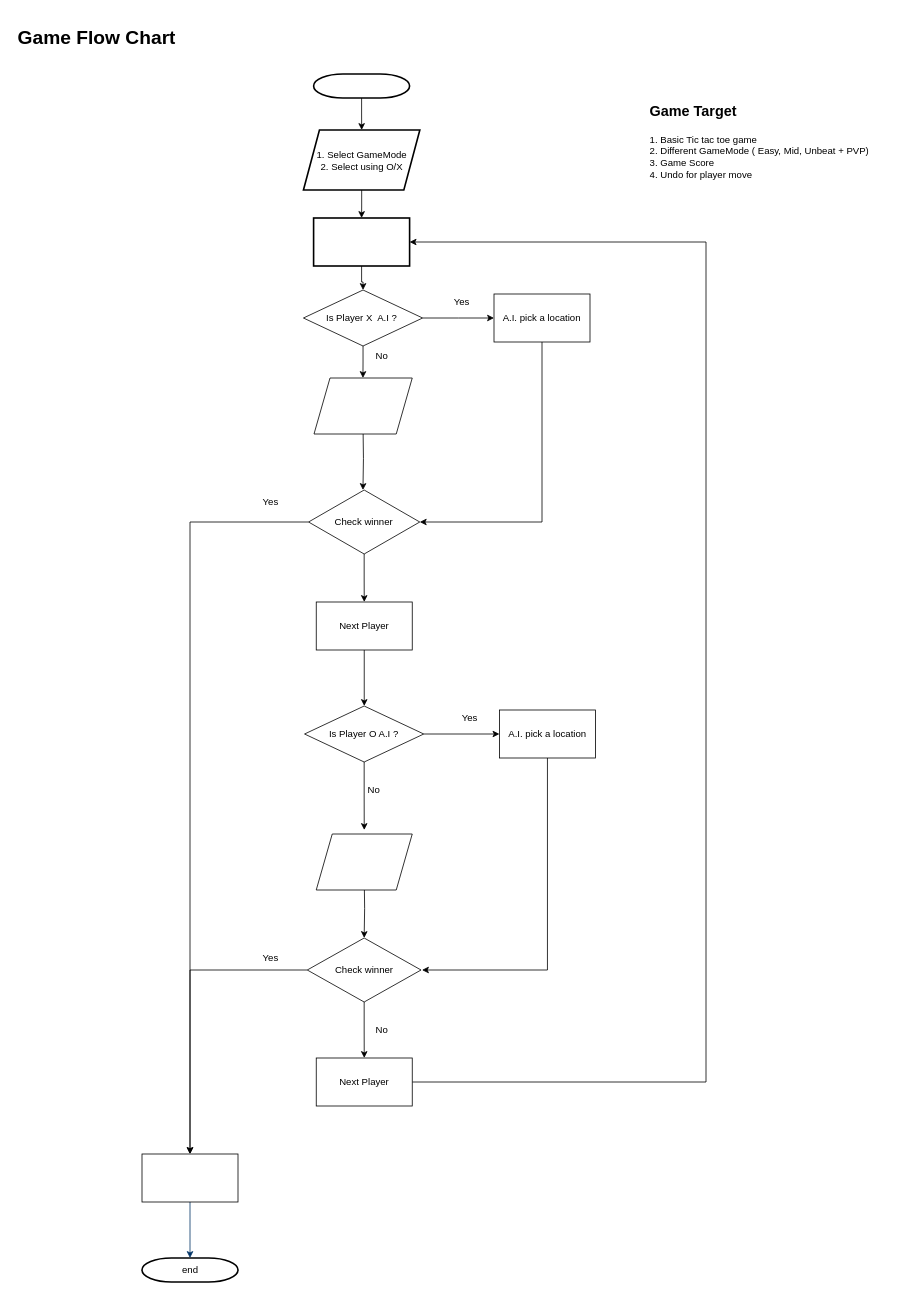
The diagram is 915 pixels wide and 1296 high, and some of its shapes have lost their labels. Here are the shapes that lost their labels. From the top down, the box of each, then its label:
(312, 73, 410, 98): Game Start
(312, 217, 410, 266): Player X Start
(313, 377, 412, 434): player X pick a location
(315, 833, 412, 890): Player O pick a location
(141, 1153, 238, 1202): Game Over
